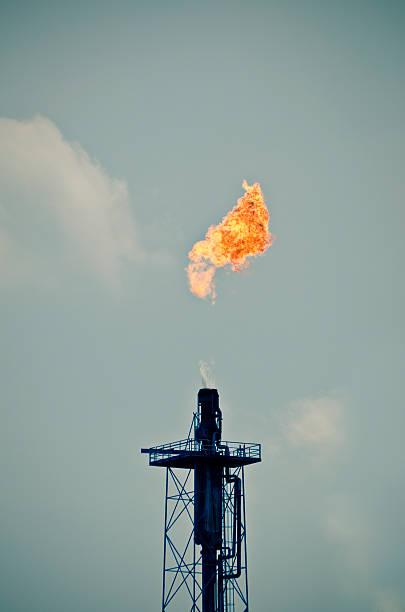Fire: (181, 159, 279, 303)
